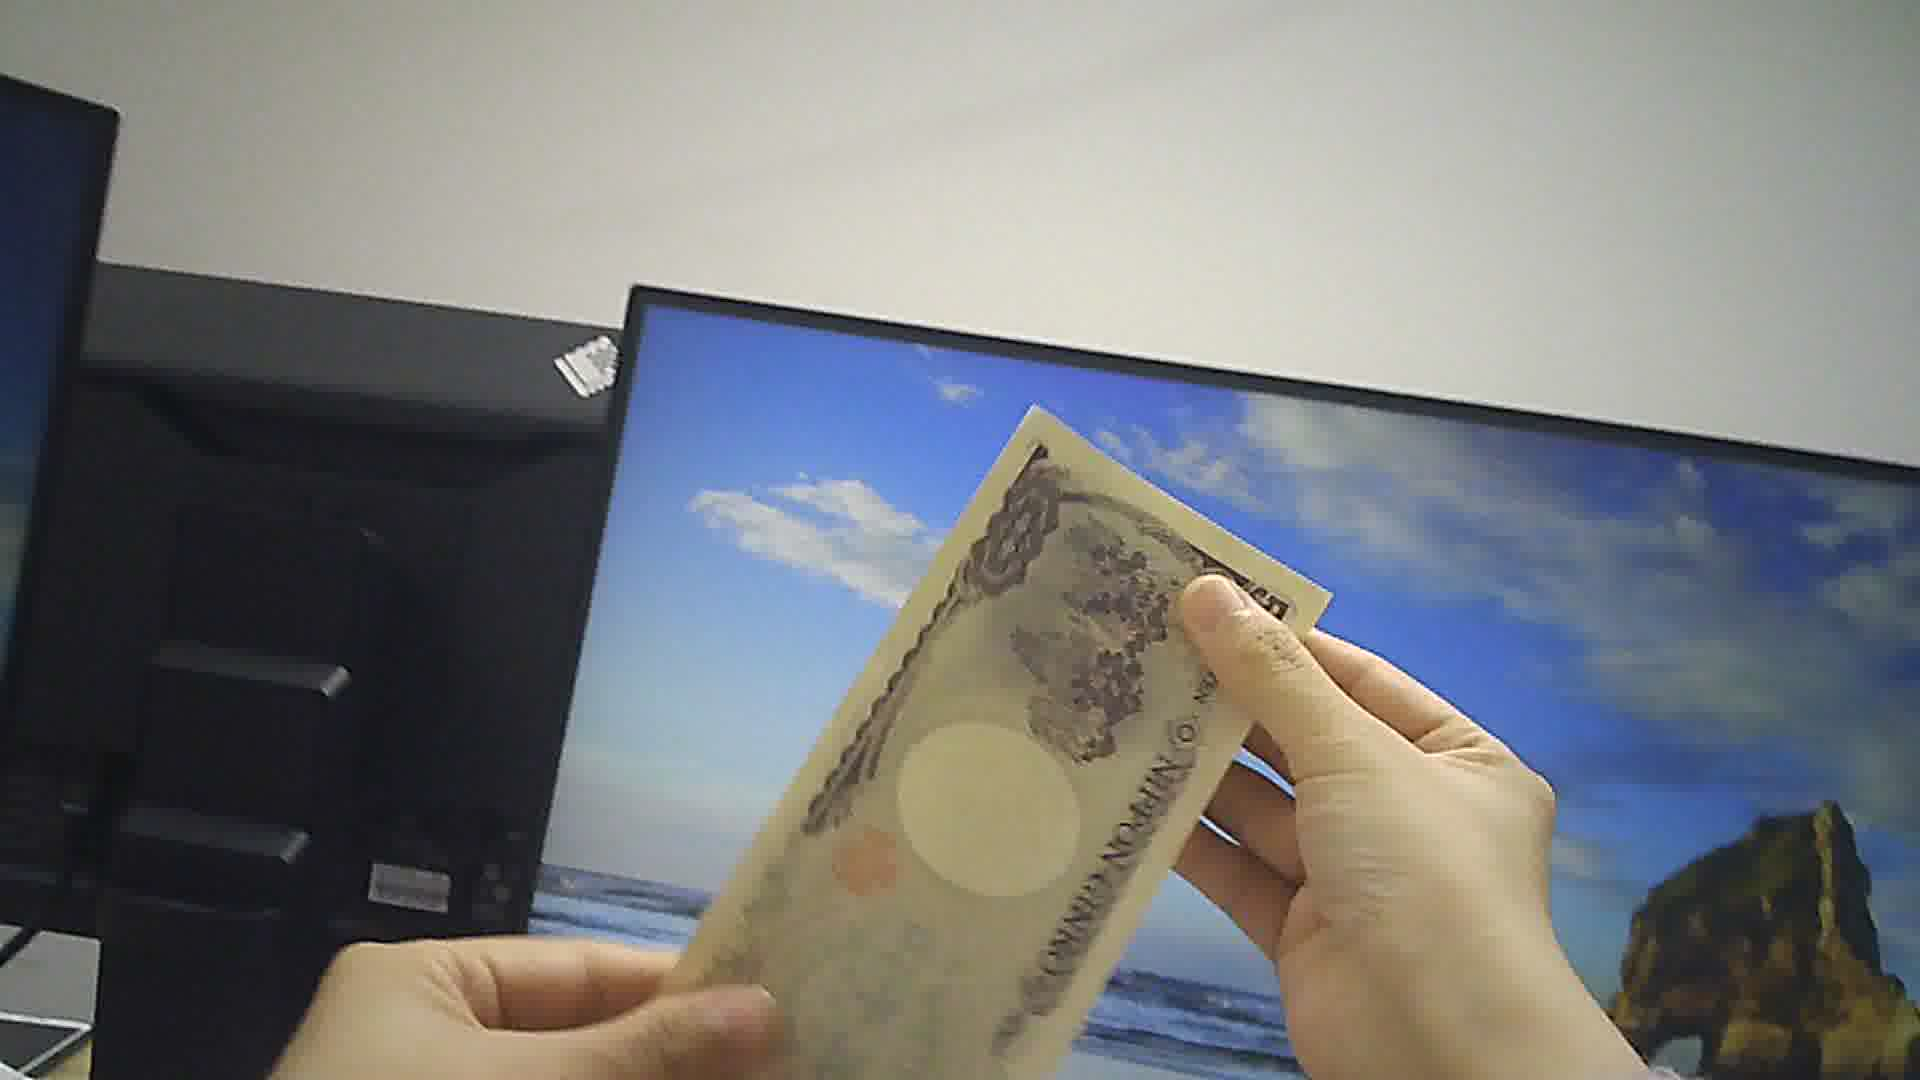5,000 Yen: (647, 382, 1361, 1079)
